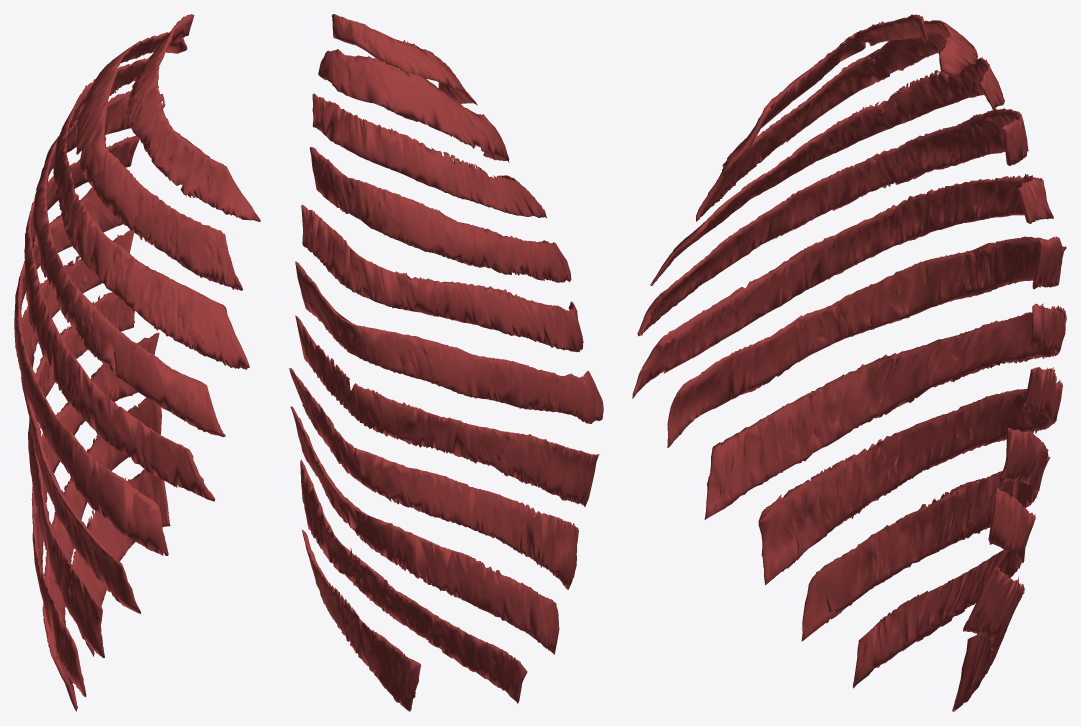
File: external-intercostal-muscles-r.glb
3 views of the same model, side by side, from view 1: azimuth 30°, elevation 25°; view 2: azimuth 150°, elevation 25°; view 3: azimuth 270°, elevation 25° (orthographic). The views are drawn at different scales.
Visible parts, largest first — view 1: External intercostal muscles.r; view 2: External intercostal muscles.r; view 3: External intercostal muscles.r.
Part boxes in pixels (x1,y1,x2,y2): External intercostal muscles.r: [14, 14, 260, 711]; External intercostal muscles.r: [289, 14, 603, 711]; External intercostal muscles.r: [632, 14, 1066, 711].
Size of the model in its own units: 0.1118 by 0.3722 by 0.1949.
